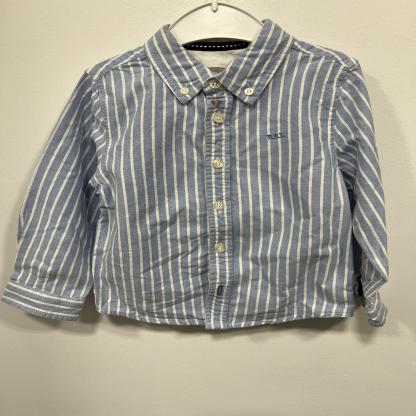stain: (208, 95, 224, 111)
